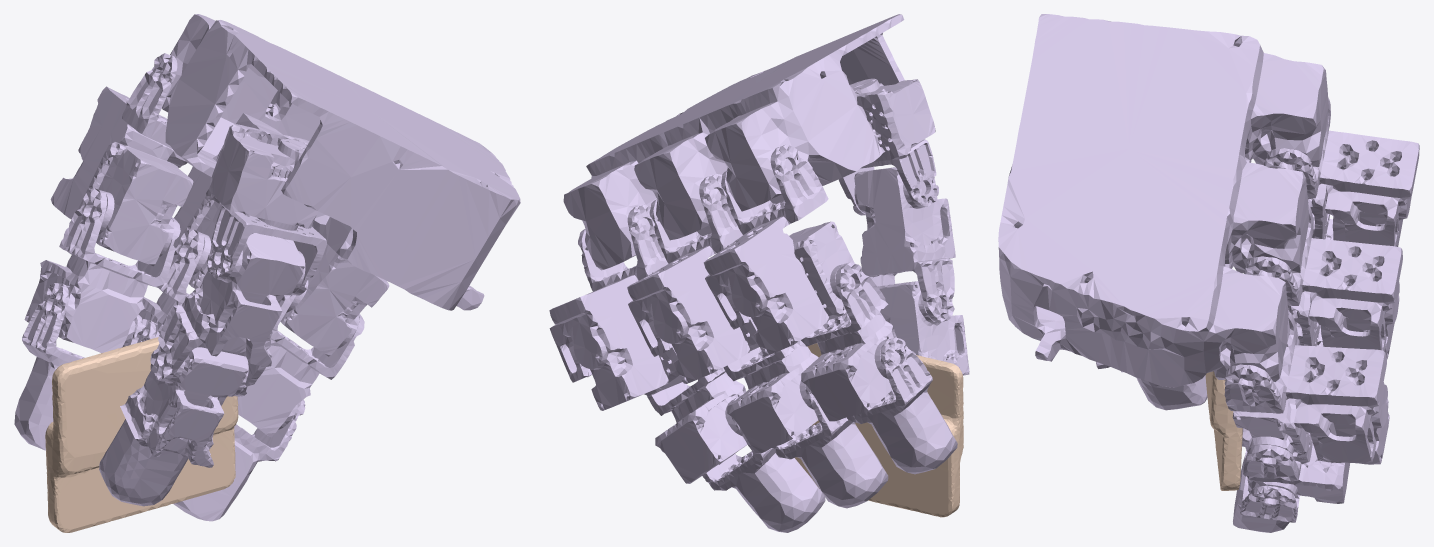
File: 7fe8be97ff1d03-closed.glb
3 views of the same model, side by side, from view 1: azimuth 30°, elevation 25°; view 2: azimuth 150°, elevation 25°; view 3: azimuth 270°, elevation 25° (orthographic). The views are drawn at different scales.
Visible parts, largest first — view 1: LEAP_hand, world; view 2: LEAP_hand, world; view 3: LEAP_hand, world.
Boxes of the visible parts, bbox=[...] form: LEAP_hand: bbox=[14, 14, 520, 521]; world: bbox=[45, 337, 238, 532]; LEAP_hand: bbox=[549, 14, 969, 532]; world: bbox=[795, 343, 963, 517]; LEAP_hand: bbox=[998, 14, 1419, 532]; world: bbox=[1205, 371, 1242, 490].
Bounding box in the file's own units: 0.1803 × 0.1982 × 0.1492.
